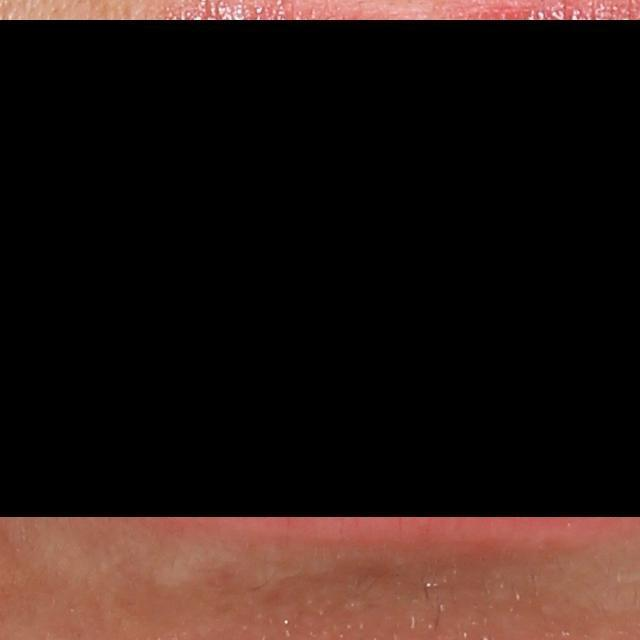hypertrophic_scar: (144, 541, 239, 590)
